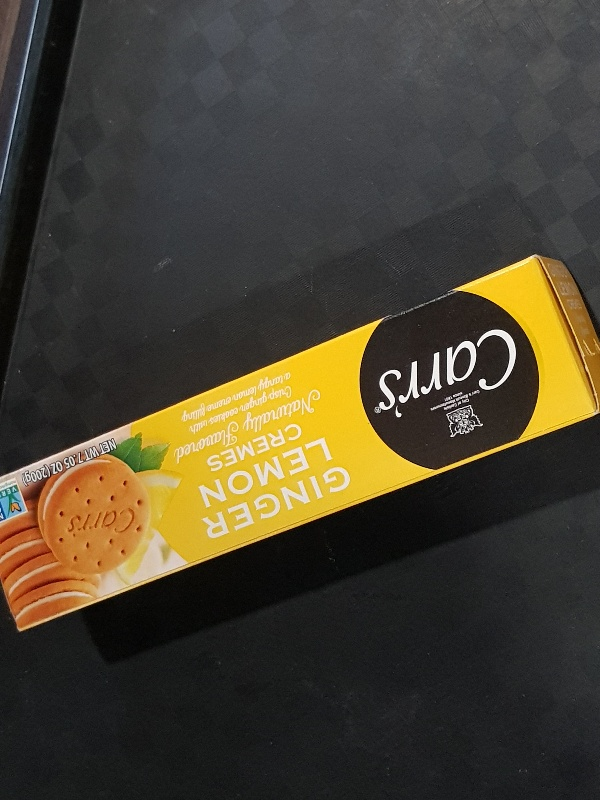Carr's Ginger Lemon Cremes: (1, 252, 600, 632)
